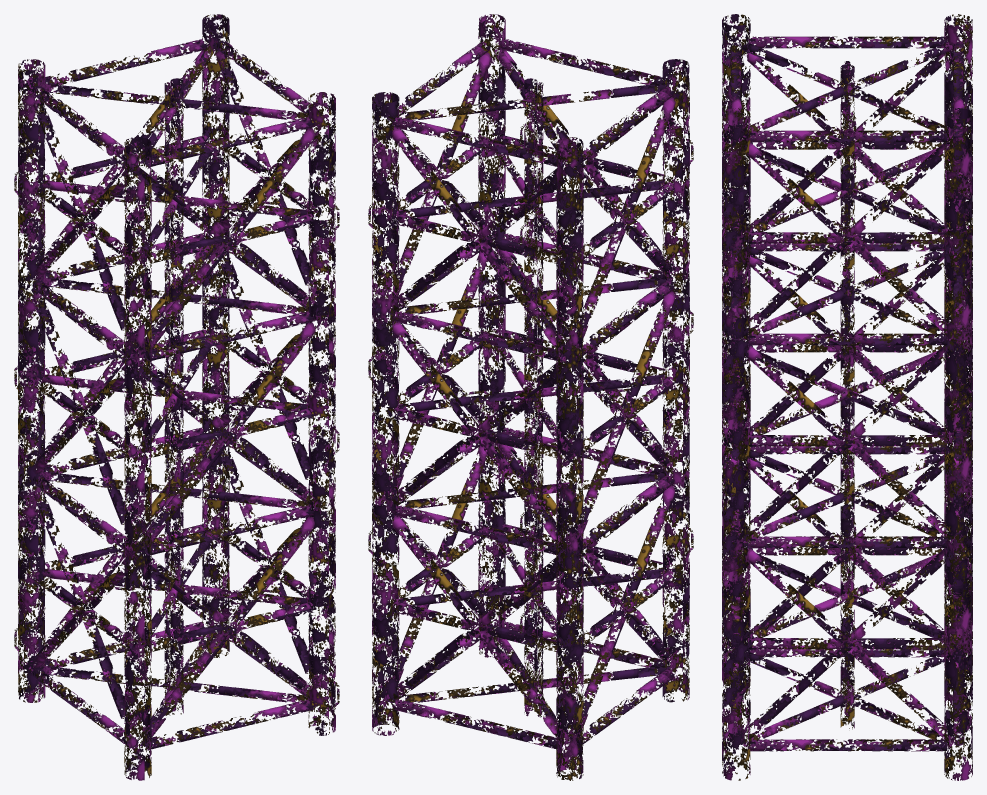
File: OilRigPier01.fbx
3 renders of one model, left to right at view 1: azimuth 30°, elevation 25°; view 2: azimuth 150°, elevation 25°; view 3: azimuth 270°, elevation 25°, orthographic. The views are drawn at different scales.
Parts seen in each view (by area): view 1: oilrigpier_Outer; view 2: oilrigpier_Outer; view 3: oilrigpier_Outer.
Part boxes in pixels (x1,y1,x2,y2): oilrigpier_Outer: (14,14,339,780); oilrigpier_Outer: (368,14,693,780); oilrigpier_Outer: (722,14,972,780).
Bounding box in the file's own units: 28.2 × 82 × 28.2.
